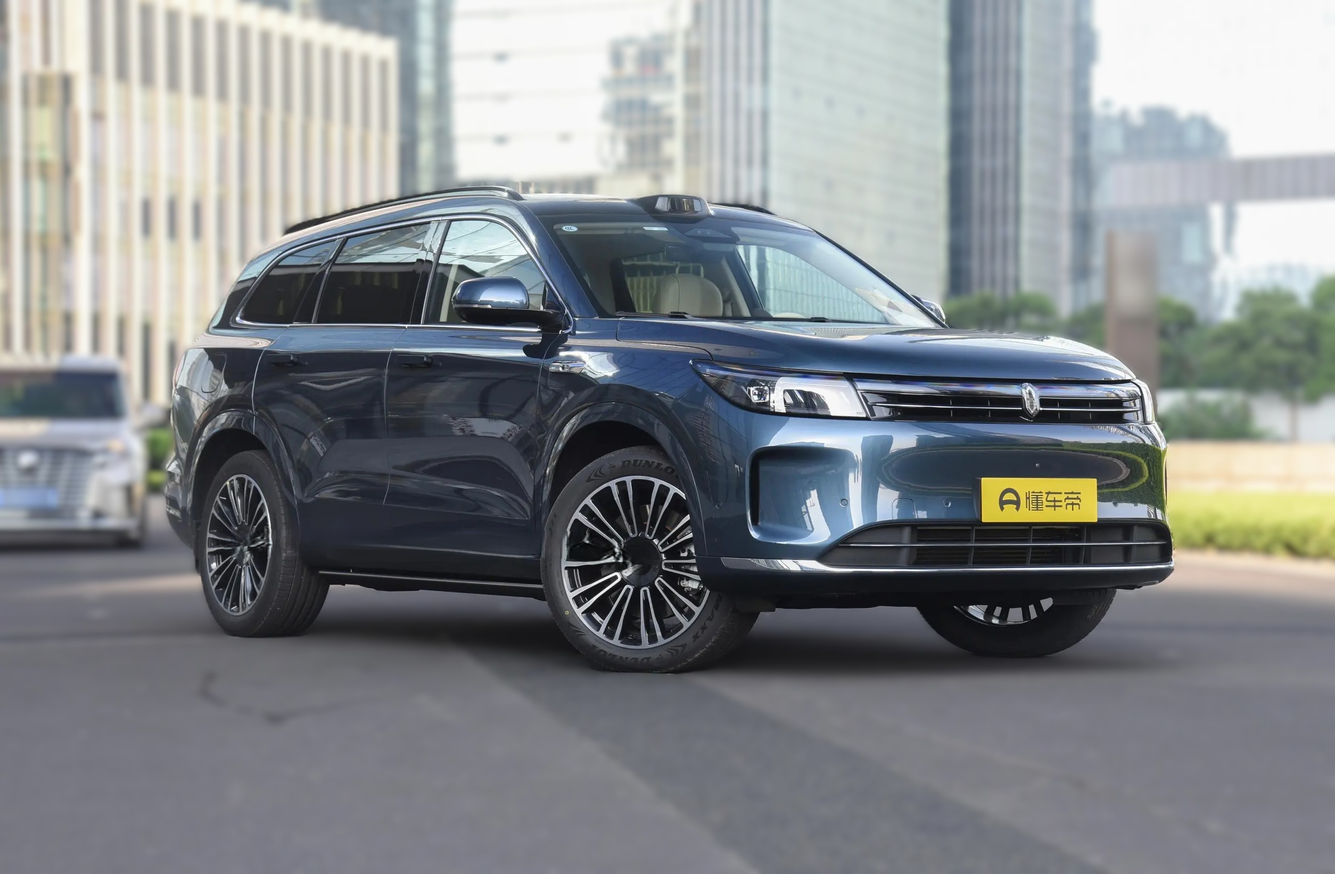AITO: (1026, 386, 1036, 412)
